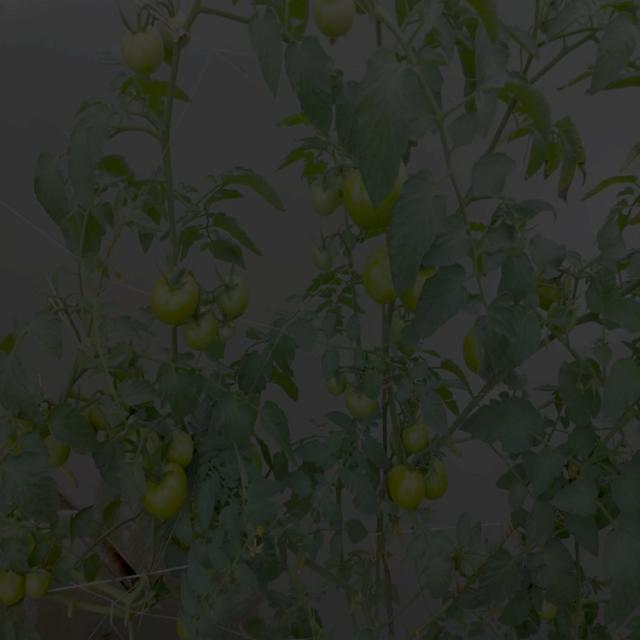tomato: (115, 12, 184, 79), (341, 160, 405, 224), (360, 246, 400, 301), (526, 265, 572, 310), (153, 266, 191, 319), (150, 466, 193, 511), (312, 4, 363, 41), (83, 393, 122, 436), (385, 462, 420, 507), (408, 266, 443, 310), (167, 430, 202, 465), (345, 388, 381, 422), (222, 270, 247, 318), (462, 320, 484, 373), (308, 177, 338, 213), (45, 434, 72, 474), (126, 431, 162, 461), (1, 571, 27, 608), (423, 466, 449, 502), (403, 421, 430, 454), (30, 567, 55, 600), (303, 240, 333, 267), (534, 600, 569, 622), (186, 323, 217, 345)
